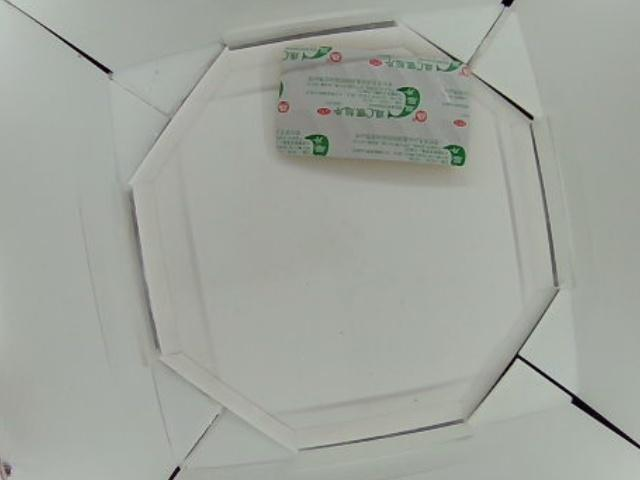Medicine: (273, 43, 473, 168)
